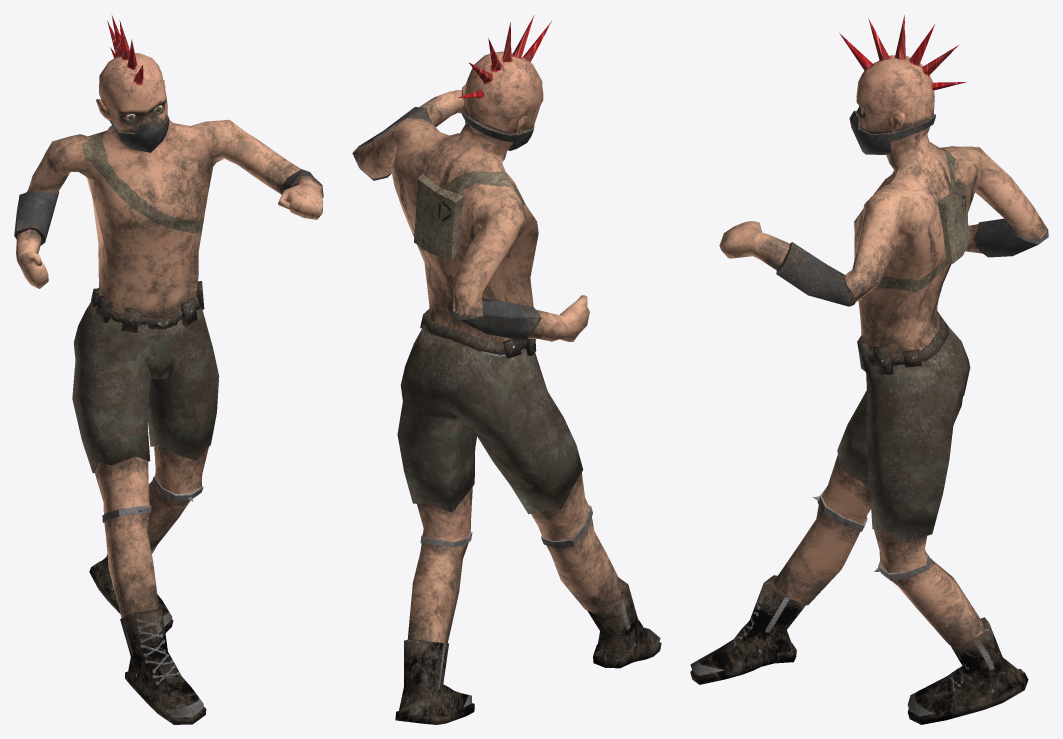
The model's file is Anim_ataque_d3_npc2.0037.obj.
3 renders of one model, left to right at view 1: azimuth 30°, elevation 25°; view 2: azimuth 150°, elevation 25°; view 3: azimuth 270°, elevation 25°, orthographic. The views are drawn at different scales.
Visible parts, largest first — view 1: polySurface1; view 2: polySurface1; view 3: polySurface1.
Boxes of the visible parts, x1=… form: polySurface1: x1=14, y1=14, x2=323, y2=724; polySurface1: x1=352, y1=15, x2=661, y2=724; polySurface1: x1=690, y1=15, x2=1048, y2=724.
Bounding box in the file's own units: 4.14 × 9.95 × 4.75.
2 materials, 2 textured.
